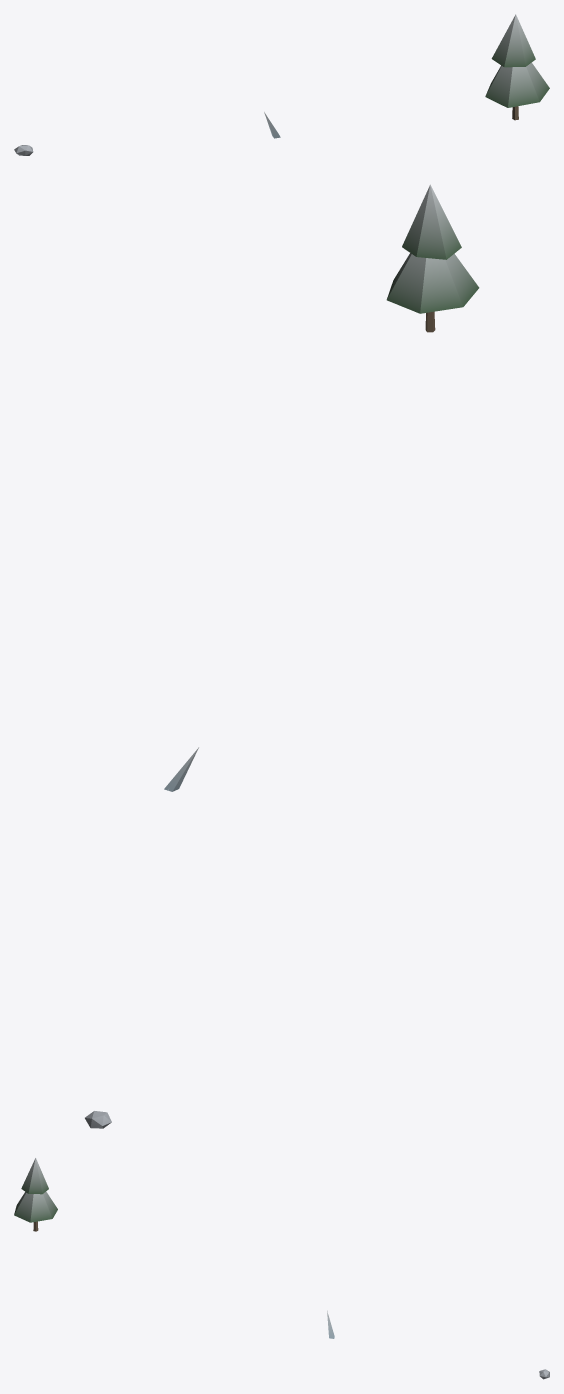
Rendered from frost_land_scatter_c12_08_lod1.glb.
3 views of the same model, one above another, from view 1: azimuth 30°, elevation 25°; view 2: azimuth 150°, elevation 25°; view 3: azimuth 270°, elevation 25° (orthographic). The views are drawn at different scales.
Parts seen in each view (by area): view 1: frost_land_scatter_c12_08_lod1; view 2: frost_land_scatter_c12_08_lod1; view 3: frost_land_scatter_c12_08_lod1.
Part boxes in pixels (box(x1,y1,x2,y2)): frost_land_scatter_c12_08_lod1: box(14, 14, 549, 155); frost_land_scatter_c12_08_lod1: box(85, 184, 479, 1128); frost_land_scatter_c12_08_lod1: box(14, 1158, 549, 1379).
Bounding box in the file's own units: 13.75 × 29.9 × 55.06.
